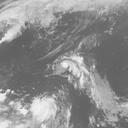cyclone: (53, 54, 88, 81), (31, 96, 58, 121)
